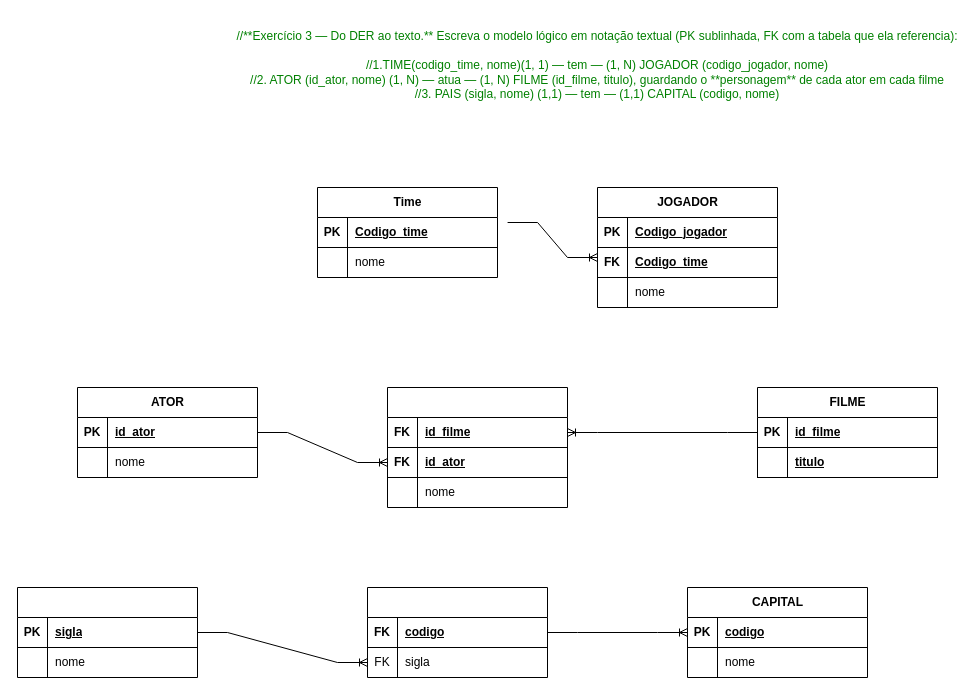
This 974x695 diagram has some shape labels left out. The box of each missing label's shape, as (x1, y1, x2, y2) in pixels:
ATUA: (386, 386, 568, 508)
PAIS: (16, 586, 198, 678)
tem: (366, 586, 548, 678)
